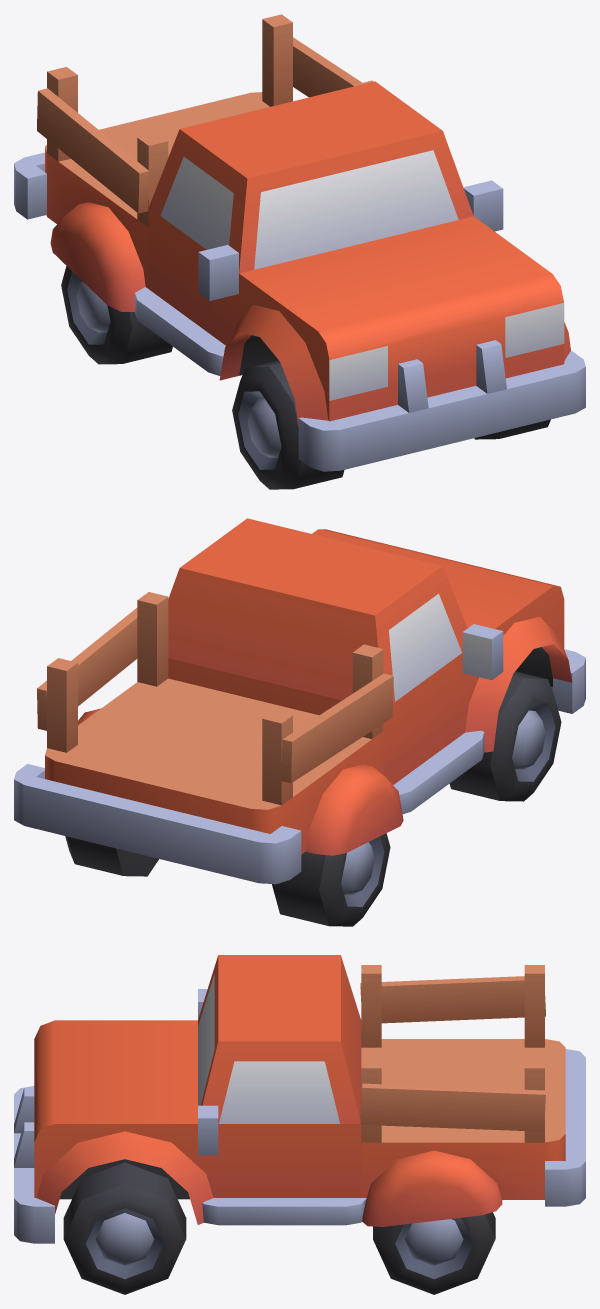
Rendered from kenney_vehicle_truck_red.glb.
3 views of the same model, one above another, from view 1: azimuth 30°, elevation 25°; view 2: azimuth 150°, elevation 25°; view 3: azimuth 270°, elevation 25° (orthographic). The views are drawn at different scales.
Visible parts, largest first — view 1: body, wheel-front-right, wheel-back-right; view 2: body, wheel-front-right, wheel-back-right, wheel-back-left; view 3: body, wheel-front-left, wheel-back-left.
Boxes of the visible parts, x1,y1,x2,y2 form: body: [14, 14, 585, 471]; wheel-front-right: [232, 359, 344, 489]; wheel-back-right: [61, 266, 172, 364]; body: [14, 518, 585, 884]; wheel-front-right: [449, 671, 561, 801]; wheel-back-right: [272, 833, 390, 926]; wheel-back-left: [65, 836, 158, 876]; body: [14, 955, 585, 1243]; wheel-front-left: [63, 1162, 186, 1294]; wheel-back-left: [373, 1212, 495, 1294].
Bounding box in the file's own units: 1.5 × 1.3 × 2.8.
Materials: 1 (1 with a texture image).
